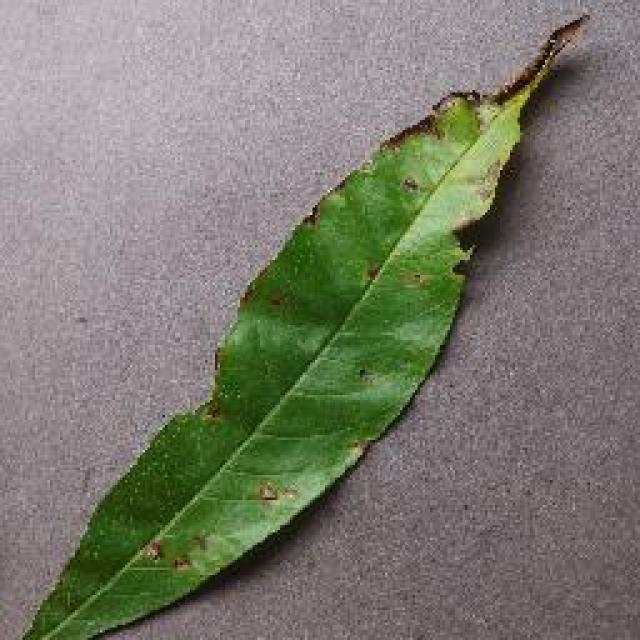Peach_Bacterial_Spot: (350, 128, 560, 280)
